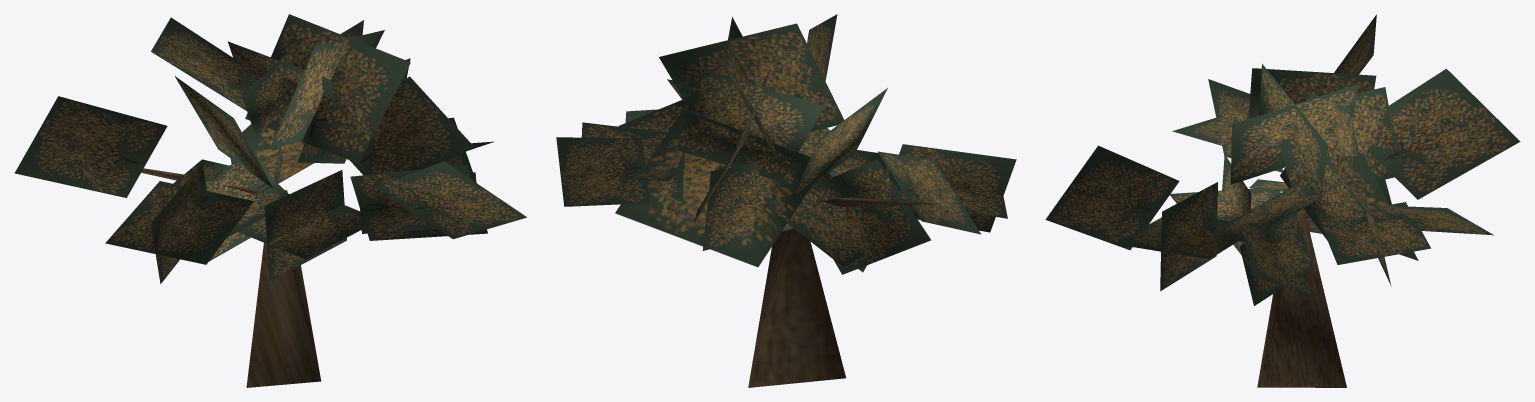
File: decd_oaktreeleaves_a1_l3.fbx
3 views of the same model, side by side, from view 1: azimuth 30°, elevation 25°; view 2: azimuth 150°, elevation 25°; view 3: azimuth 270°, elevation 25° (orthographic). The views are drawn at different scales.
Parts seen in each view (by area): view 1: mesh_node; view 2: mesh_node; view 3: mesh_node.
Part boxes in pixels (bbox=[...]): mesh_node: bbox=[15, 14, 526, 387]; mesh_node: bbox=[556, 14, 1016, 387]; mesh_node: bbox=[1045, 14, 1520, 387].
Bounding box in the file's own units: 34.15 × 26.05 × 34.81.
Materials: 2 (2 with a texture image).
